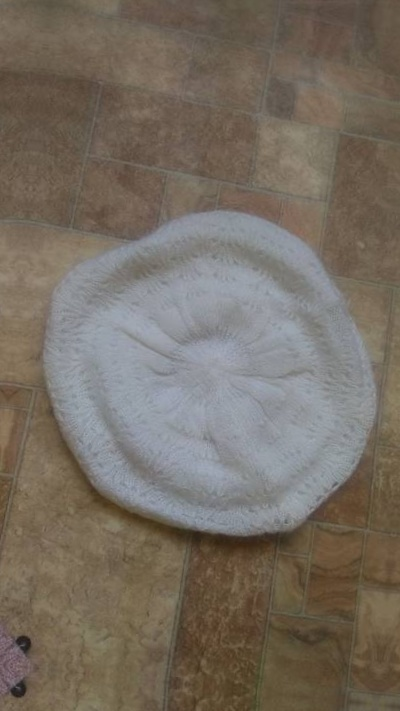Hat: (9, 156, 400, 574), (0, 114, 18, 532)
